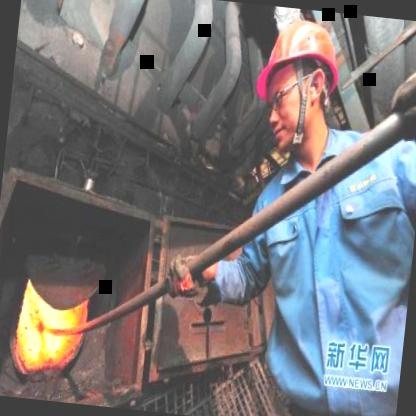helmet: (246, 4, 354, 158)
